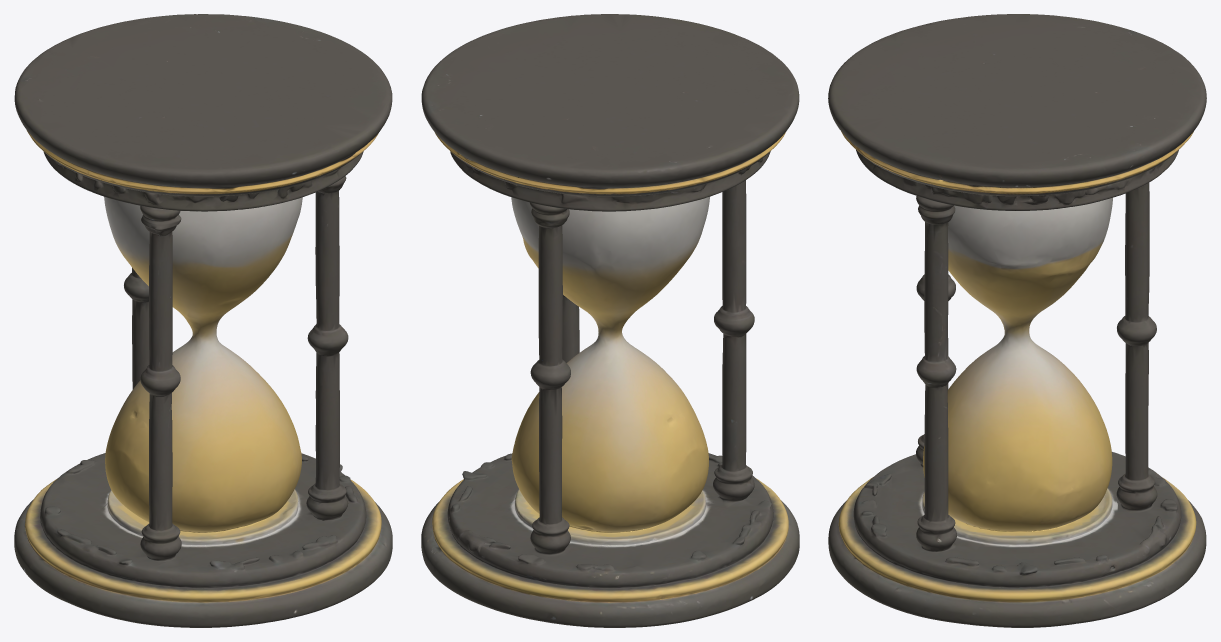
Rendered from prop-hourglass-giant.glb.
The picture shows the model from 3 angles, left to right: view 1: azimuth 30°, elevation 25°; view 2: azimuth 150°, elevation 25°; view 3: azimuth 270°, elevation 25°; orthographic projection.
Parts seen in each view (by area): view 1: tripo_node_b3146298-adef-4ef7-8c2a-82ac1e352b01; view 2: tripo_node_b3146298-adef-4ef7-8c2a-82ac1e352b01; view 3: tripo_node_b3146298-adef-4ef7-8c2a-82ac1e352b01.
Part boxes in pixels (x1,y1,x2,y2): tripo_node_b3146298-adef-4ef7-8c2a-82ac1e352b01: (14, 14, 392, 627); tripo_node_b3146298-adef-4ef7-8c2a-82ac1e352b01: (421, 14, 799, 627); tripo_node_b3146298-adef-4ef7-8c2a-82ac1e352b01: (828, 14, 1206, 627).
Bounding box in the file's own units: 1.82 × 2.5 × 1.82.
Materials: 1 (1 with a texture image).
